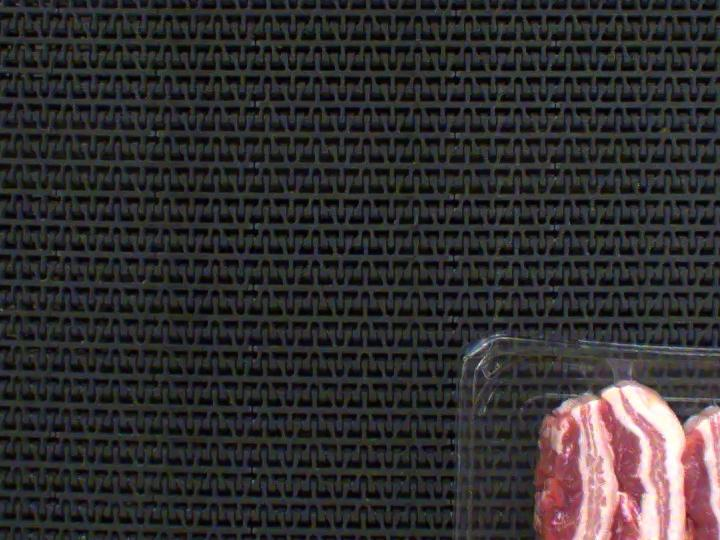packaging-error: (584, 349, 658, 400)
